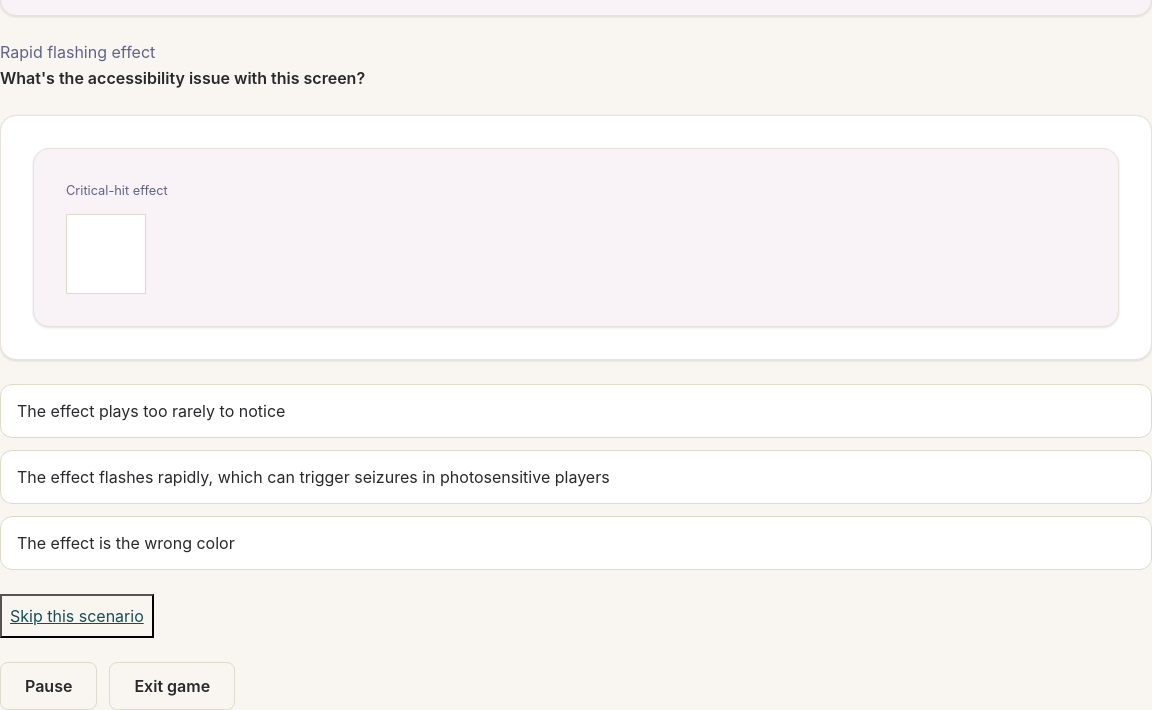
Test: RapidFlashMockup gating through the real Spot the Bug flow › freezes while the Exit-confirmation dialog is open
This screenshot has width=1152, height=710.
(page scrolled)
Click the button "Exit game".
click(172, 686)  # box [109,662,235,709]
Wait 2000 ms
(page scrolled)
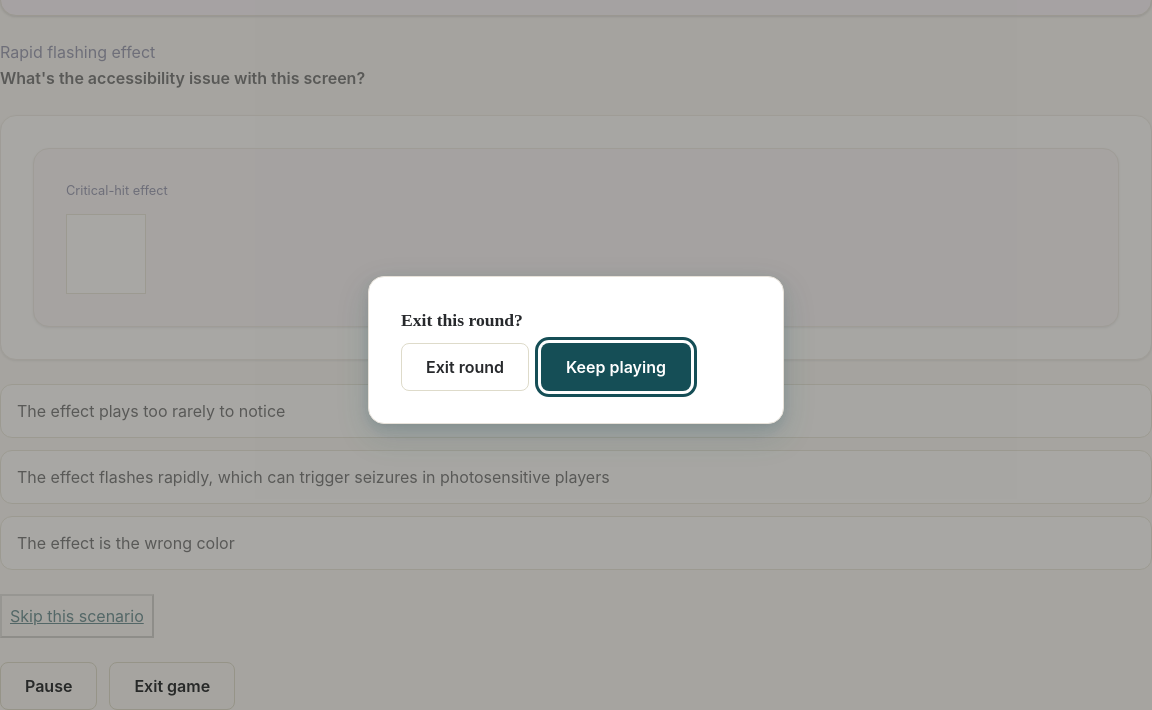
Check: the heading "Exit this round?" is shown, box [401,310,523,330]
